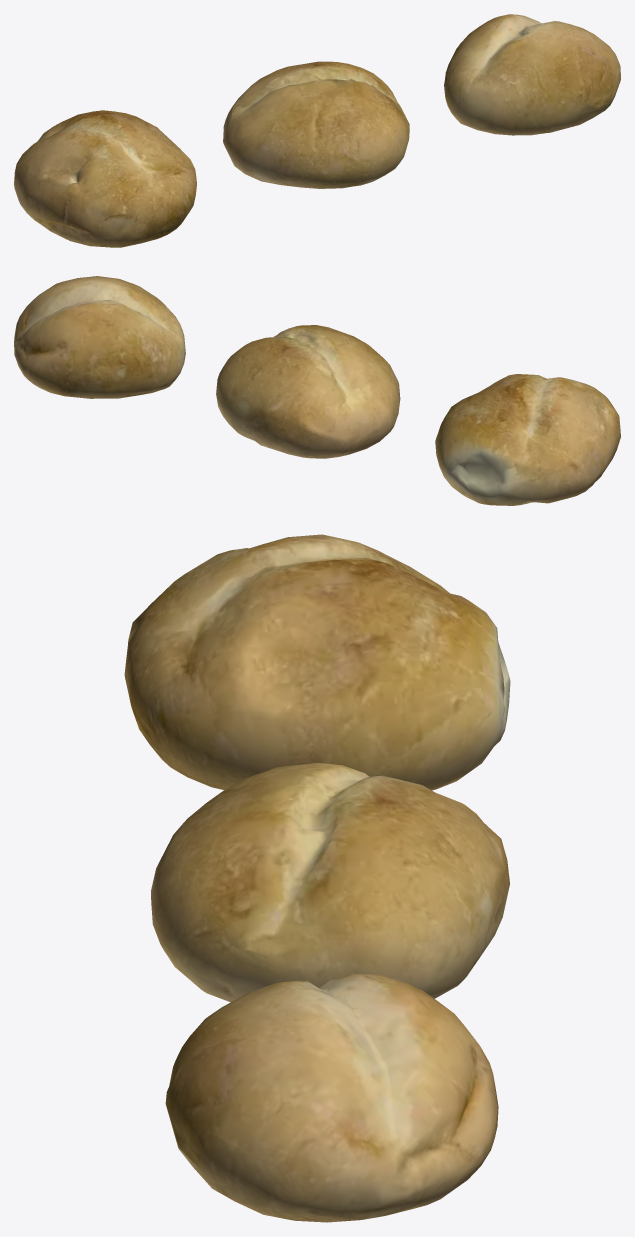
File: hamburger_buns.glb
3 views of the same model, one above another, from view 1: azimuth 30°, elevation 25°; view 2: azimuth 150°, elevation 25°; view 3: azimuth 270°, elevation 25° (orthographic). The views are drawn at different scales.
Parts seen in each view (by area): view 1: hamburger_buns_01; view 2: hamburger_buns_01; view 3: hamburger_buns_01.
Part boxes in pixels (left/top/right/bottom): hamburger_buns_01: left=14, top=14, right=620, bottom=247; hamburger_buns_01: left=14, top=276, right=620, bottom=505; hamburger_buns_01: left=124, top=534, right=510, bottom=1222.
Bounding box in the file's own units: 0.3972 × 0.0634 × 0.1138.
1 material, 1 textured.
